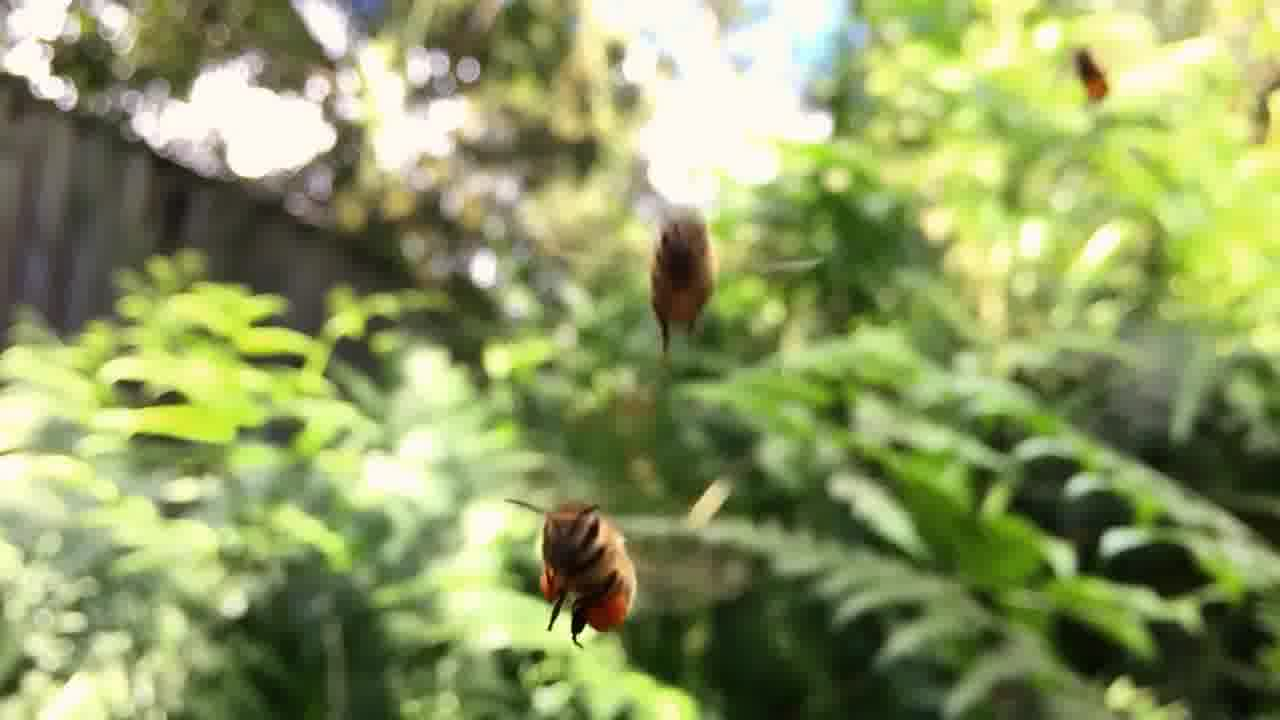pollen: (515, 497, 635, 649)
